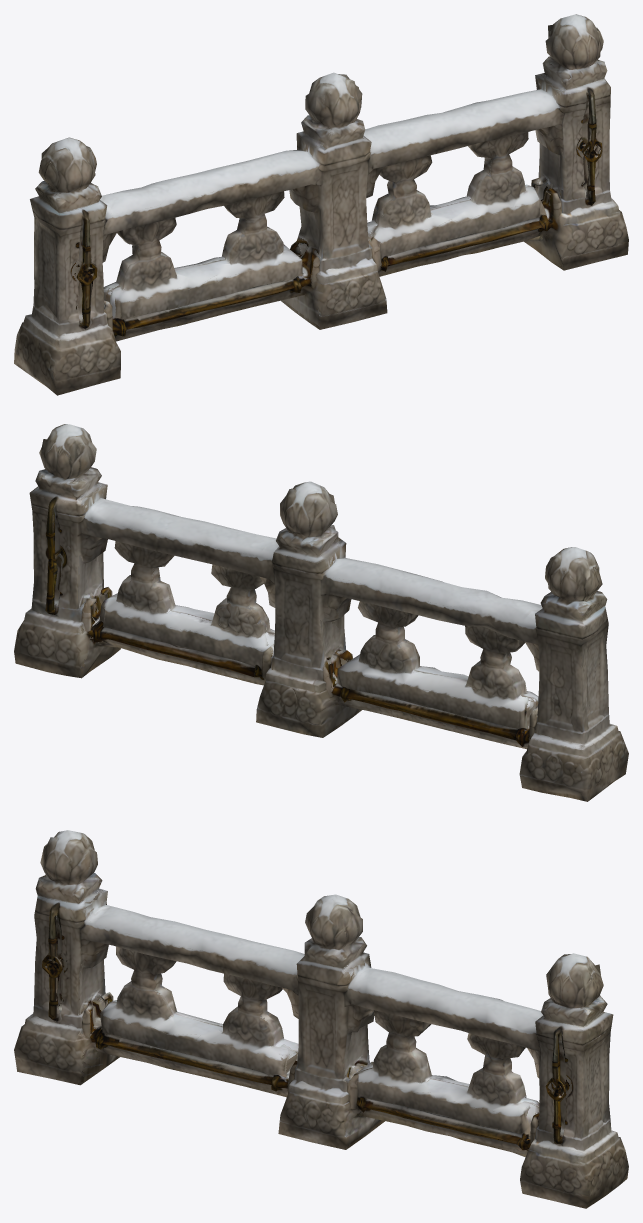
Rendered from PR_Woldae.fbx.
3 views of the same model, one above another, from view 1: azimuth 30°, elevation 25°; view 2: azimuth 150°, elevation 25°; view 3: azimuth 330°, elevation 25° (orthographic).
Parts seen in each view (by area): view 1: texture_mapping; view 2: texture_mapping; view 3: texture_mapping.
Boxes of the visible parts, <box> form: texture_mapping: <box>14,14,628,395</box>; texture_mapping: <box>14,424,628,801</box>; texture_mapping: <box>14,830,628,1208</box>.
Bounding box in the file's own units: 0.998 × 0.129 × 0.3897.
Materials: 1 (1 with a texture image).
